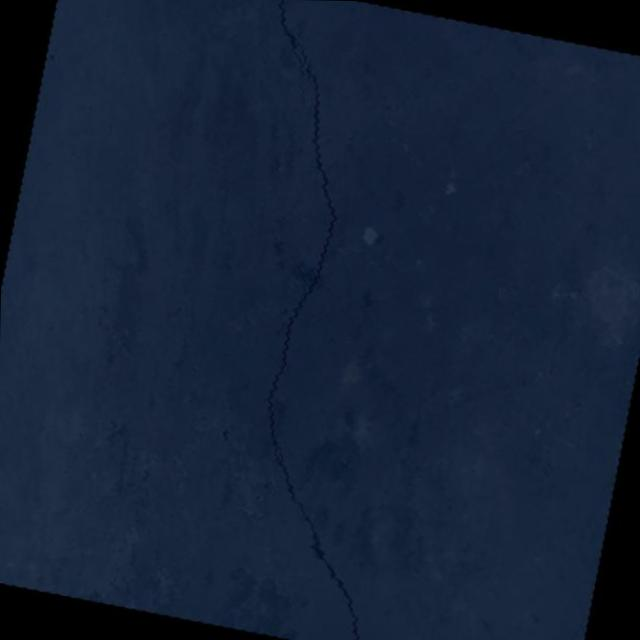crack: (156, 0, 485, 640)
